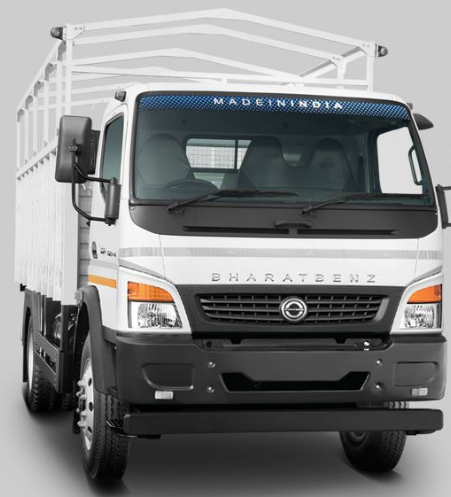truck: (13, 7, 449, 488)
